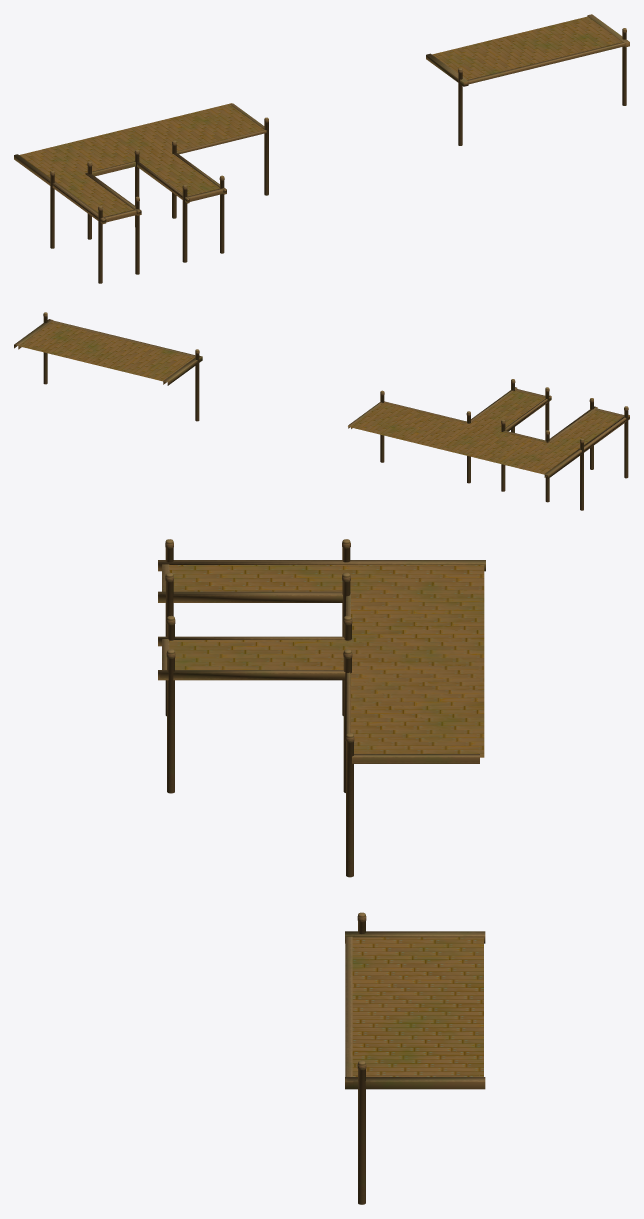
File: Wooden_bridge_asset.fbx
3 renders of one model, top to bottom at view 1: azimuth 30°, elevation 25°; view 2: azimuth 150°, elevation 25°; view 3: azimuth 270°, elevation 25°, orthographic. The views are drawn at different scales.
Parts seen in each view (by area): view 1: bridge1, bridge2; view 2: bridge1, bridge2; view 3: bridge1, bridge2.
Boxes of the visible parts, bbox=[...] form: bridge1: bbox=[14, 103, 268, 283]; bridge2: bbox=[426, 14, 629, 145]; bridge1: bbox=[348, 379, 629, 510]; bridge2: bbox=[14, 312, 202, 421]; bridge1: bbox=[158, 539, 485, 877]; bridge2: bbox=[345, 912, 485, 1204].
Bounding box in the file's own units: 18099 × 2307 × 4790.
Materials: 1 (1 with a texture image).
